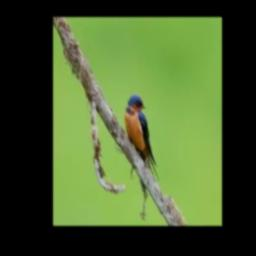Swallow: (124, 95, 159, 183)
